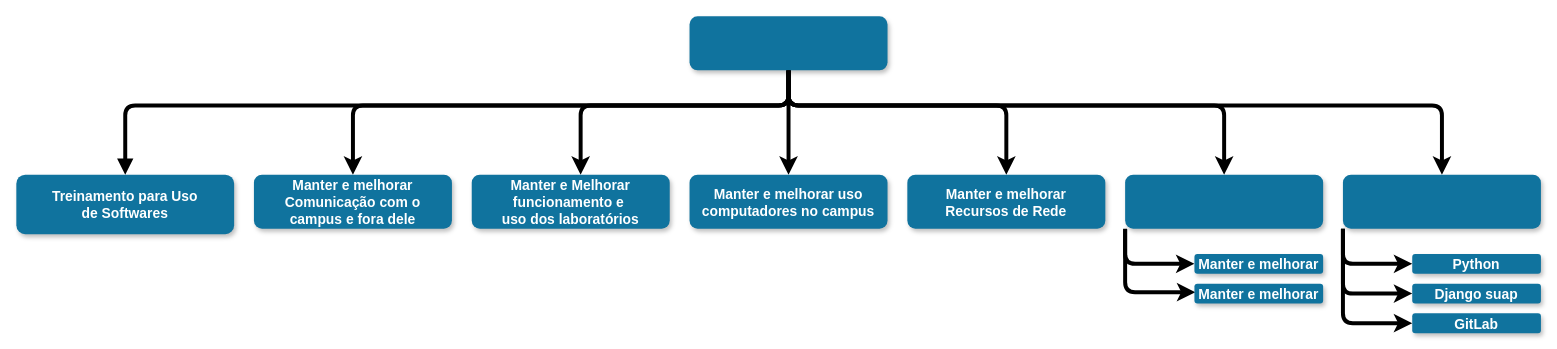
Image size: 1557x349. Some labels were removed from this diagram. Each missing label, with the centre of its shape:
"Desenvolver sofwares para facilitar Atividades" belongs at point (1442, 202).
"Manter e melhorar Servidores de Rede" belongs at point (1225, 202).
"Projetos 2020" belongs at point (789, 44).
